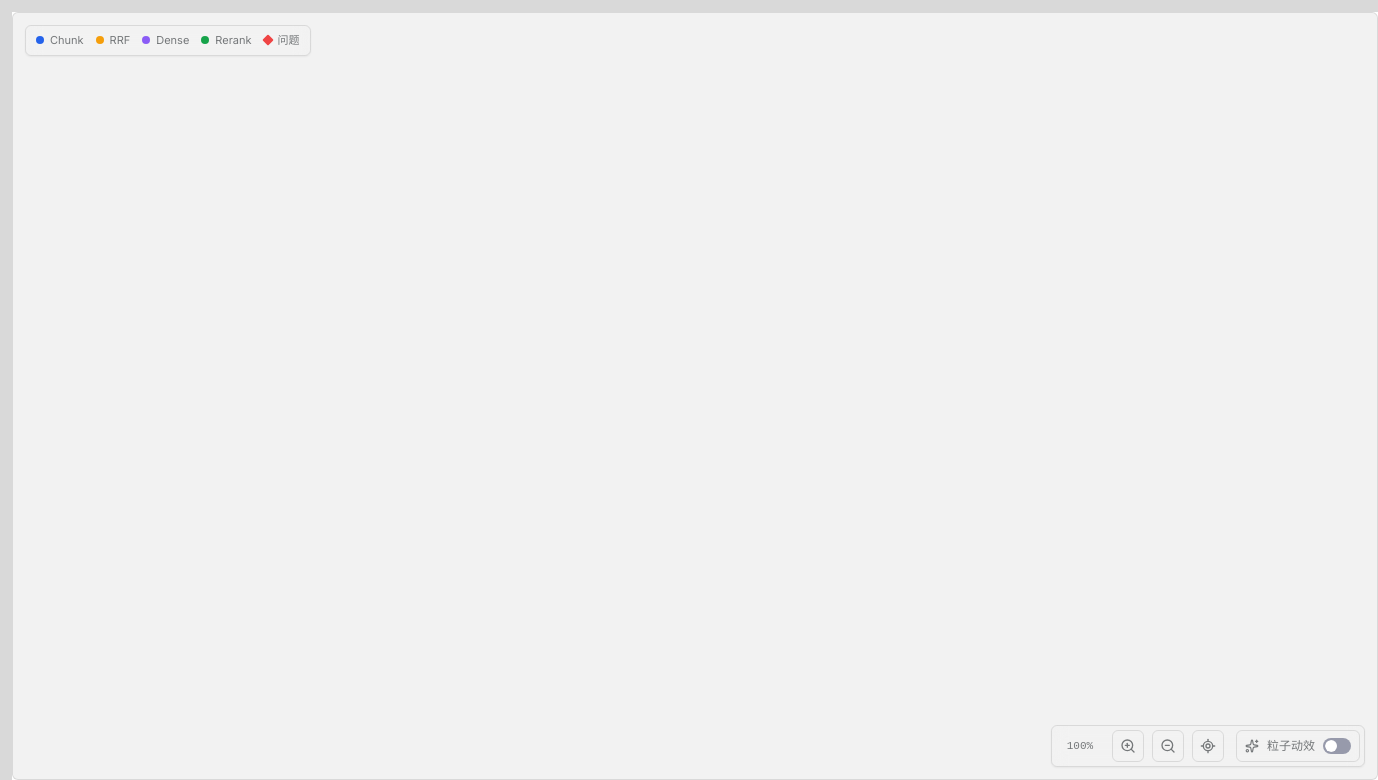
Test: VectorSpaceMap › reports the live zoom percentage after toolbar zooming
What coordinates should you click on to do the following:
click the button named "放大"
I would click on:
 (1128, 746)
Its box is [1112, 730, 1144, 762].
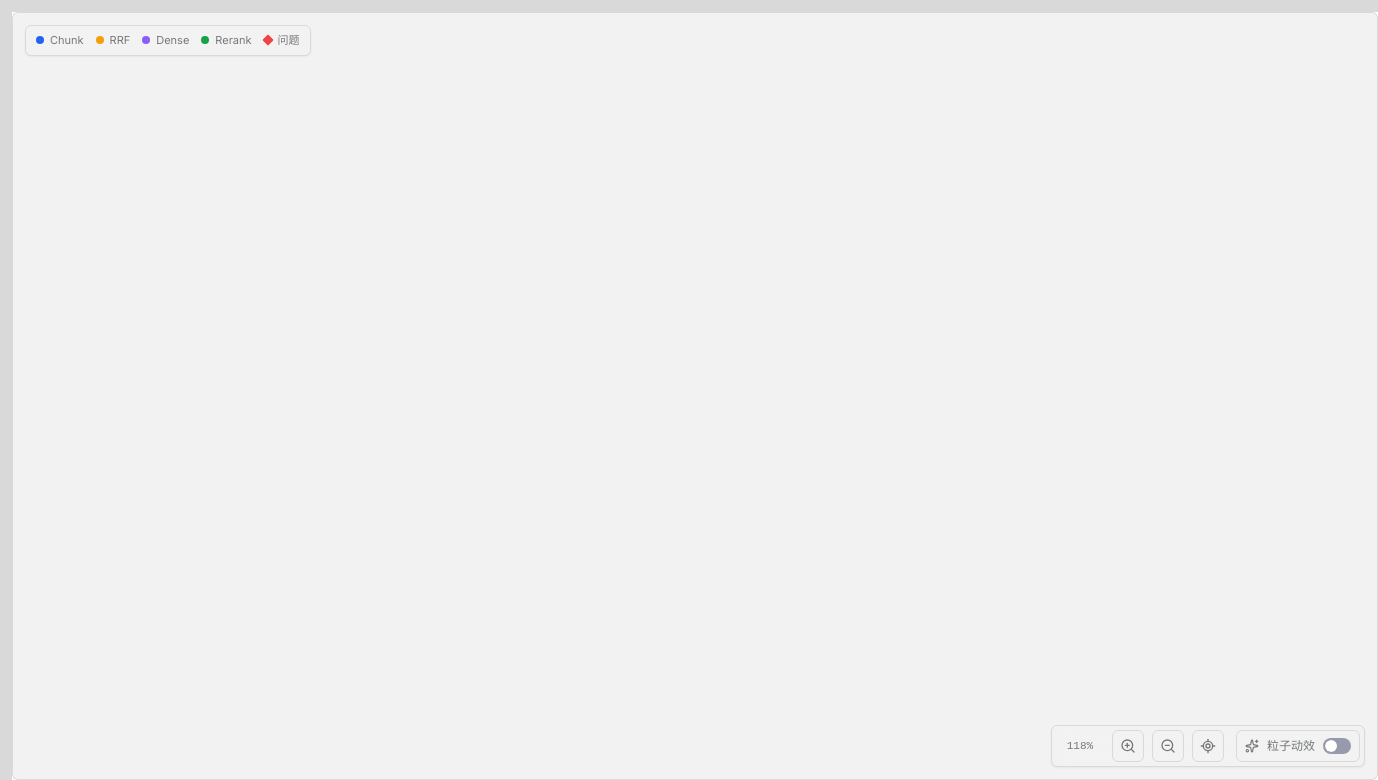
Check: the text with test id "vector-zoom-level" reads "118%", box [1067, 740, 1093, 752]
